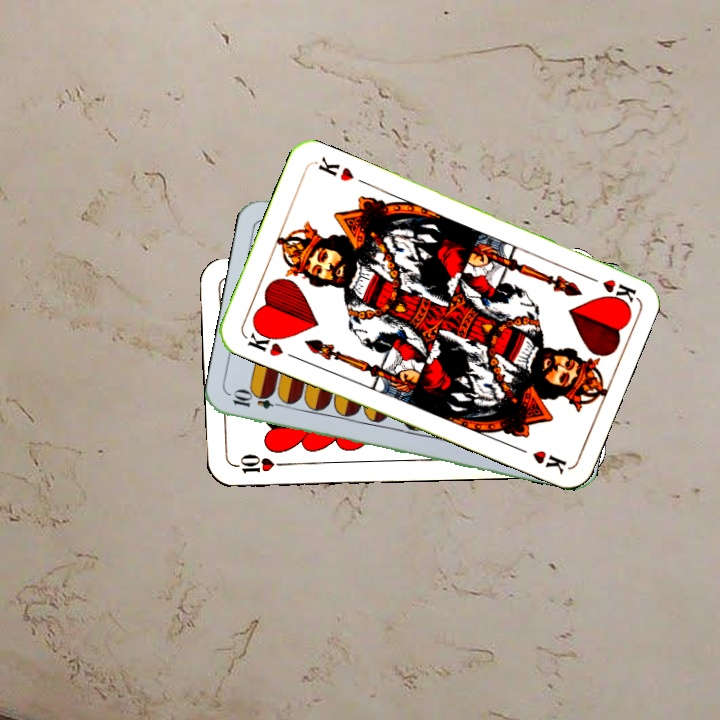E10: (229, 388, 288, 412)
H10: (230, 451, 289, 476)
HK: (580, 270, 638, 304), (241, 324, 286, 359)
